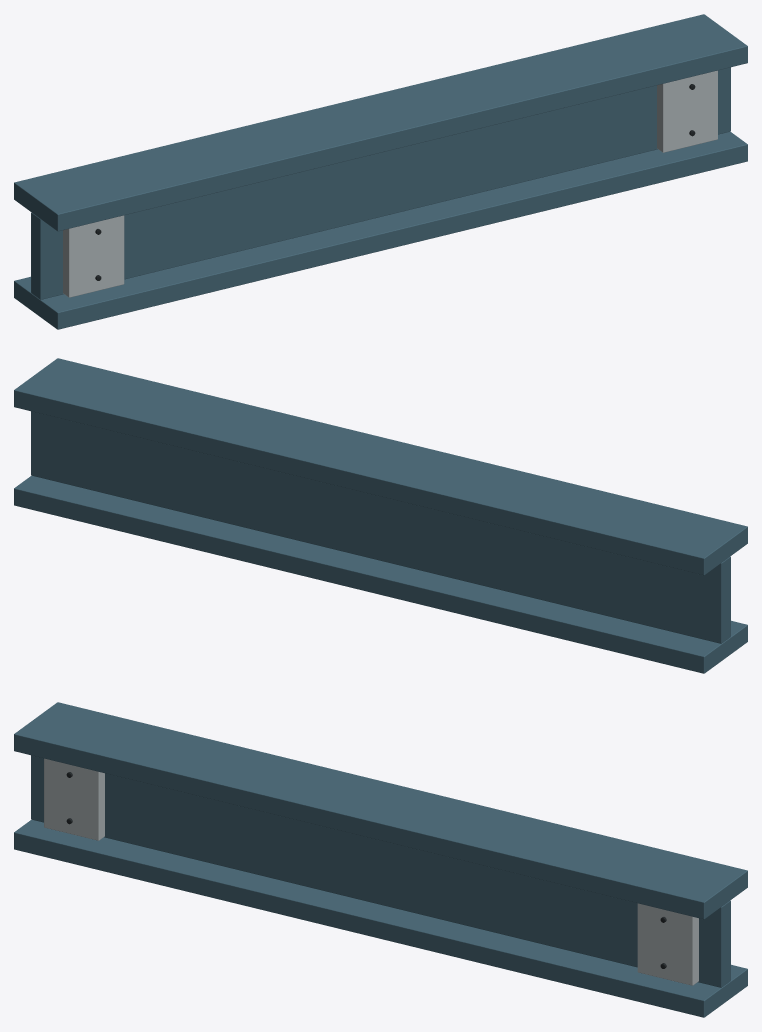
The model's file is structural_w_beam.glb.
The picture shows the model from 3 angles, top to bottom: view 1: azimuth 30°, elevation 25°; view 2: azimuth 150°, elevation 25°; view 3: azimuth 330°, elevation 25°; orthographic projection.
Visible parts, largest first — view 1: BEAM_top, BEAM_web, BEAM_bottom, CONNECTION_plate_-2.15, CONNECTION_plate_2.15; view 2: BEAM_web, BEAM_top, BEAM_bottom; view 3: BEAM_top, BEAM_web, BEAM_bottom, CONNECTION_plate_2.15, CONNECTION_plate_-2.15.
Part boxes in pixels (box(x1,y1,x2,y2)): BEAM_top: box(14, 14, 747, 231); BEAM_web: box(31, 67, 730, 299); BEAM_bottom: box(14, 131, 747, 329); CONNECTION_plate_-2.15: box(63, 215, 124, 297); CONNECTION_plate_2.15: box(657, 70, 717, 152); BEAM_web: box(31, 411, 730, 643); BEAM_top: box(14, 358, 747, 575); BEAM_bottom: box(14, 475, 747, 673); BEAM_top: box(14, 702, 747, 919); BEAM_web: box(31, 755, 730, 987); BEAM_bottom: box(14, 819, 747, 1017); CONNECTION_plate_2.15: box(637, 903, 698, 985); CONNECTION_plate_-2.15: box(44, 758, 104, 840).
Size of the model in its own units: 5 by 0.8 by 0.55.
